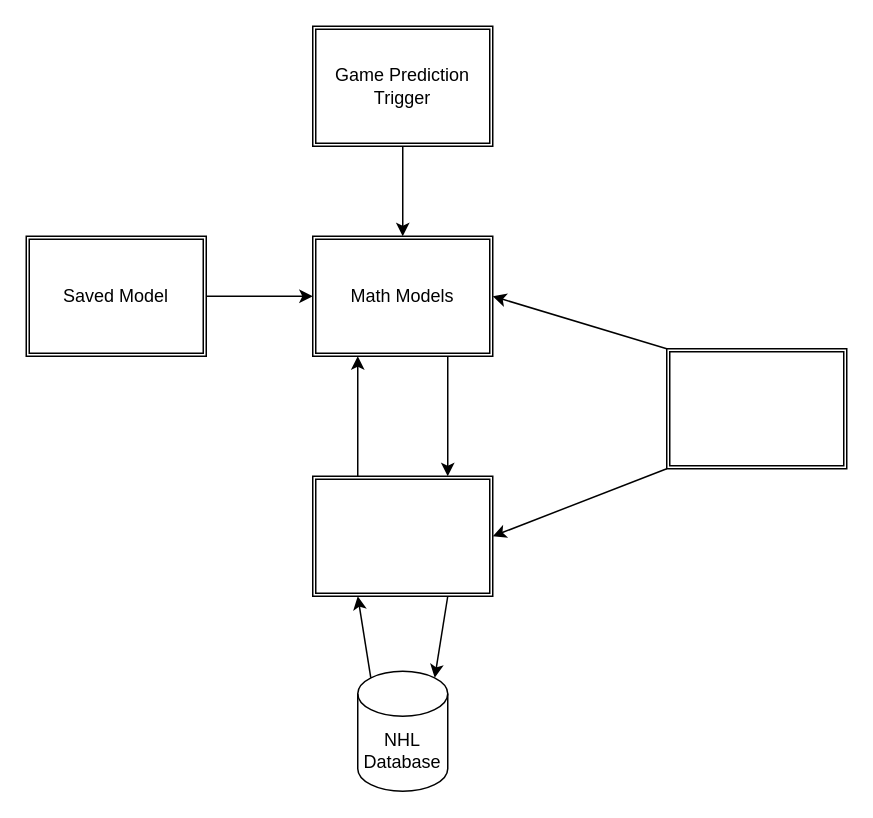
Some shapes in this 873 by 818 pixel diagram are drawn without their labels. Each missing label, with the centre of its shape:
Data Access: the point at 402,535
Entities: the point at 756,408
